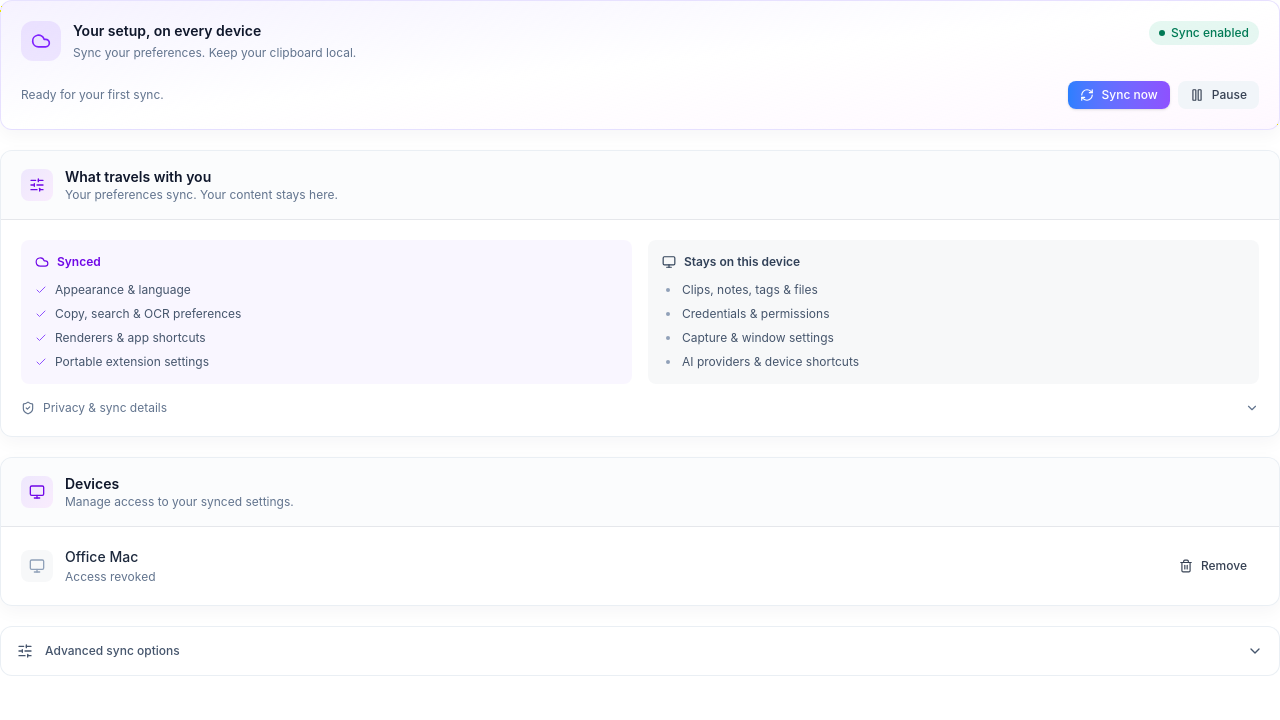
Test: ConfigurationSync › requires confirmation and removes revoked entries from the list
Click the button with aria-label "Remove Office Mac": click(1213, 566) [1167, 552, 1259, 580]
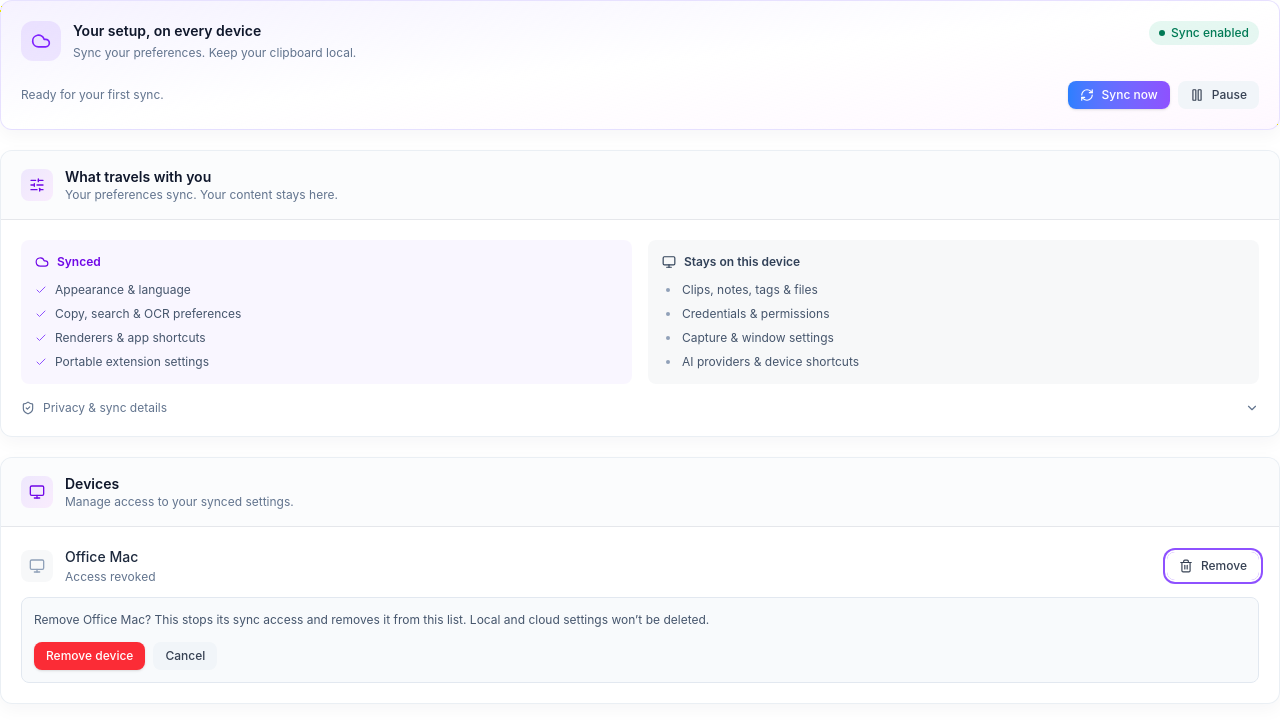
Click the button "Cancel": click(185, 656) [153, 642, 217, 670]
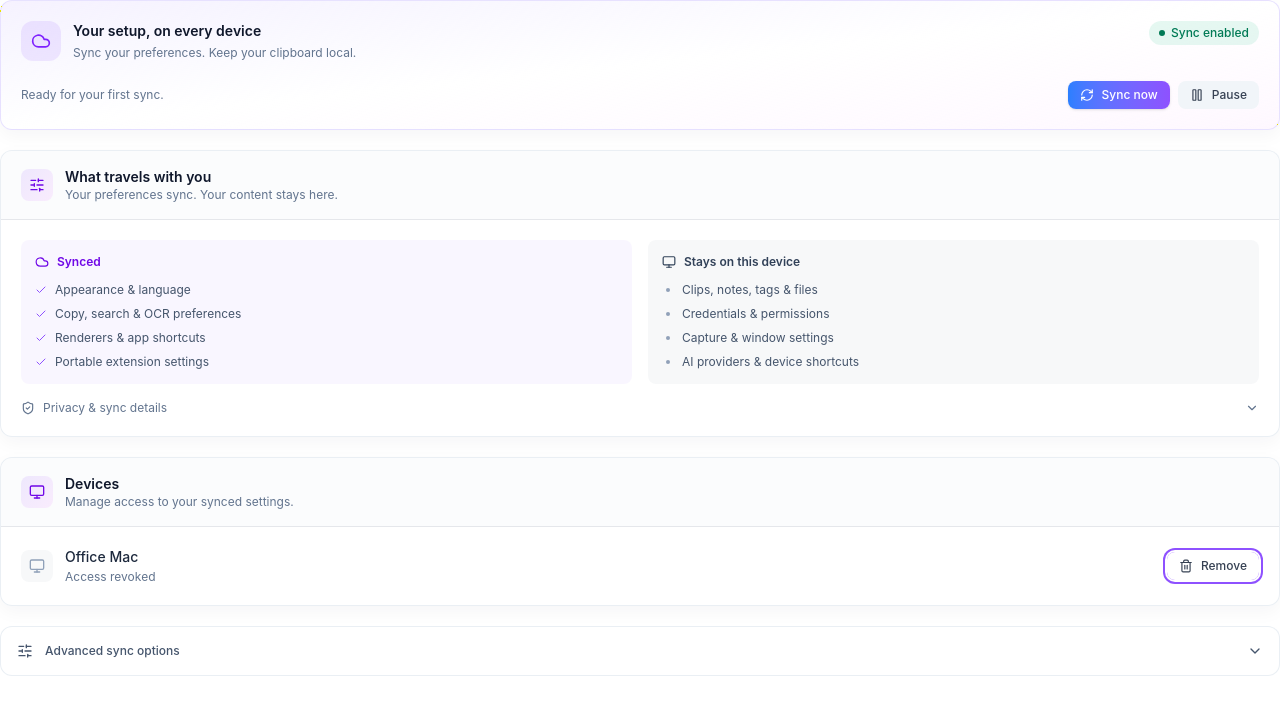
Click the button with aria-label "Remove Office Mac": click(1213, 566) [1167, 552, 1259, 580]
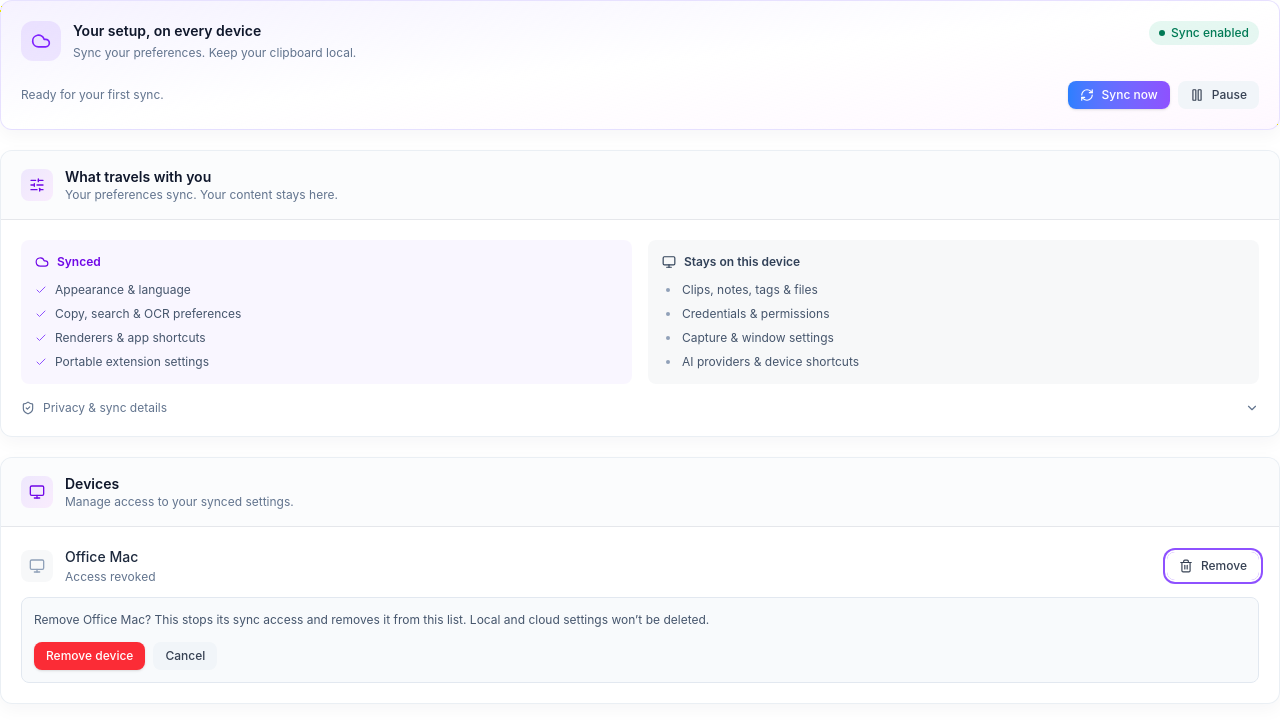
Click the button "Remove device": click(90, 656) [34, 642, 145, 670]
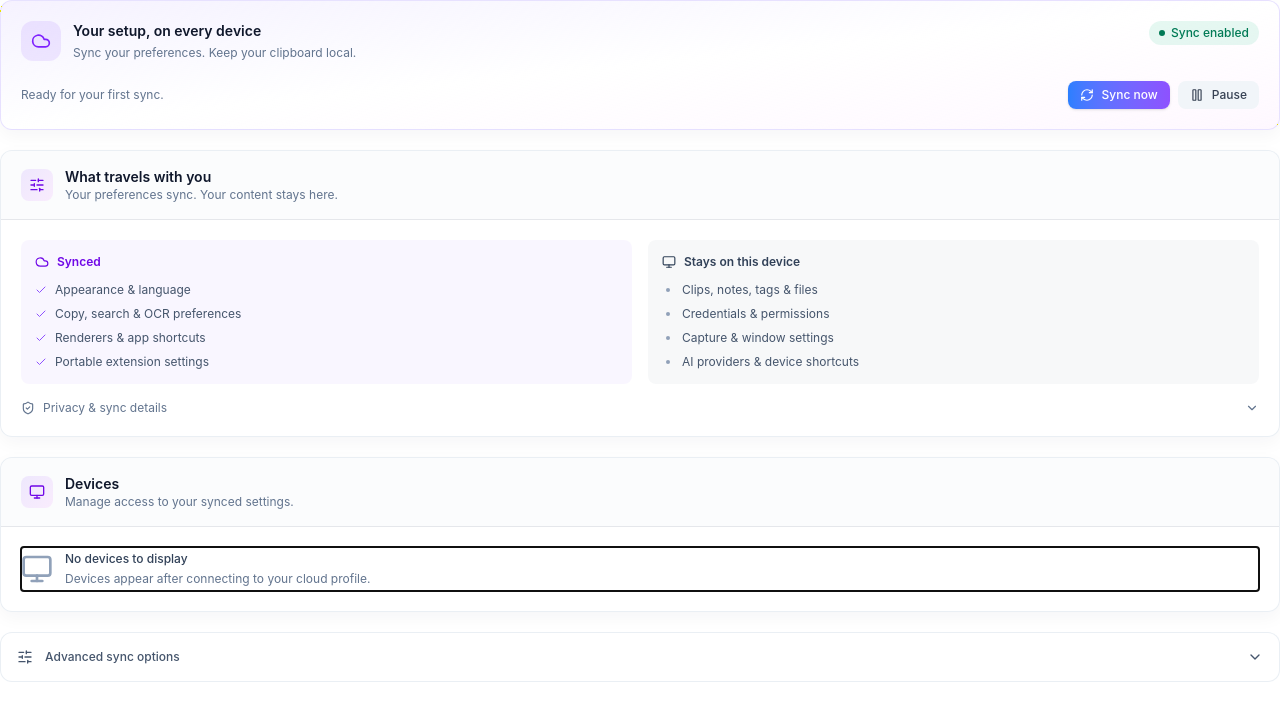
Expected: the text "No devices to display" is shown, [65, 551, 188, 566]
Expected: the text "Office Mac" is gone
